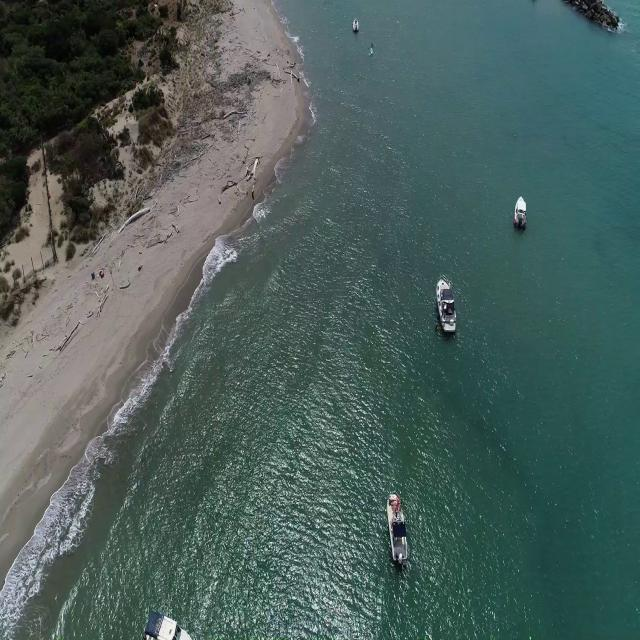boat: (386, 488, 408, 567), (434, 273, 458, 336), (145, 614, 190, 640), (512, 197, 528, 232), (350, 17, 358, 33)
person: (370, 40, 375, 51)
surfboard: (368, 47, 374, 60)
wood: (218, 157, 260, 202)
